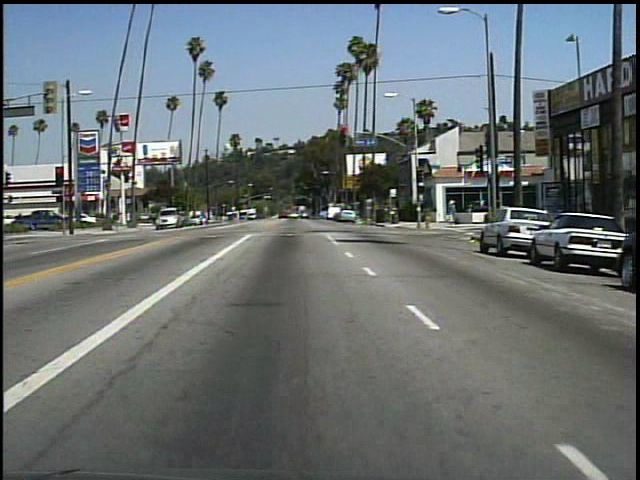person: (445, 196, 460, 228)
